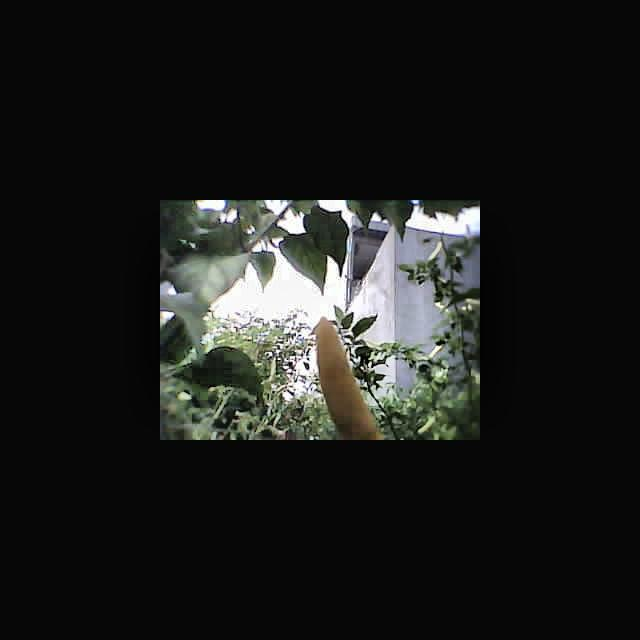Cabai: (308, 314, 378, 440)
